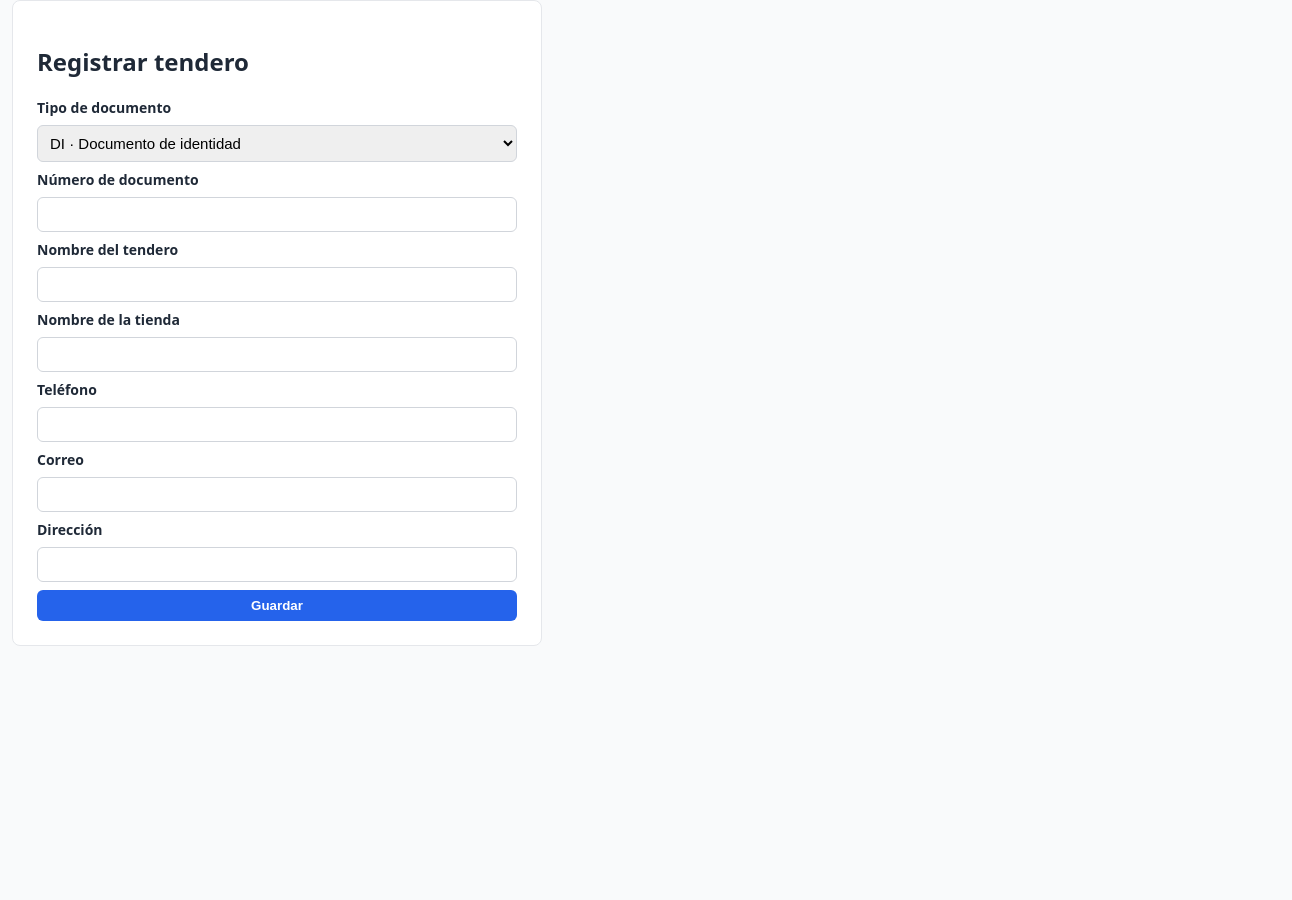
it: RegistrarTendero › al guardar con éxito vuelve a la lista con «Tendero registrado» y la recarga con el tendero nuevo (CA25)
In the field labelled "Número de documento": (277, 214) [37,197,517,232], type "999124011"
In the field labelled "Nombre del tendero": (277, 284) [37,267,517,302], type "Prueba Norte"
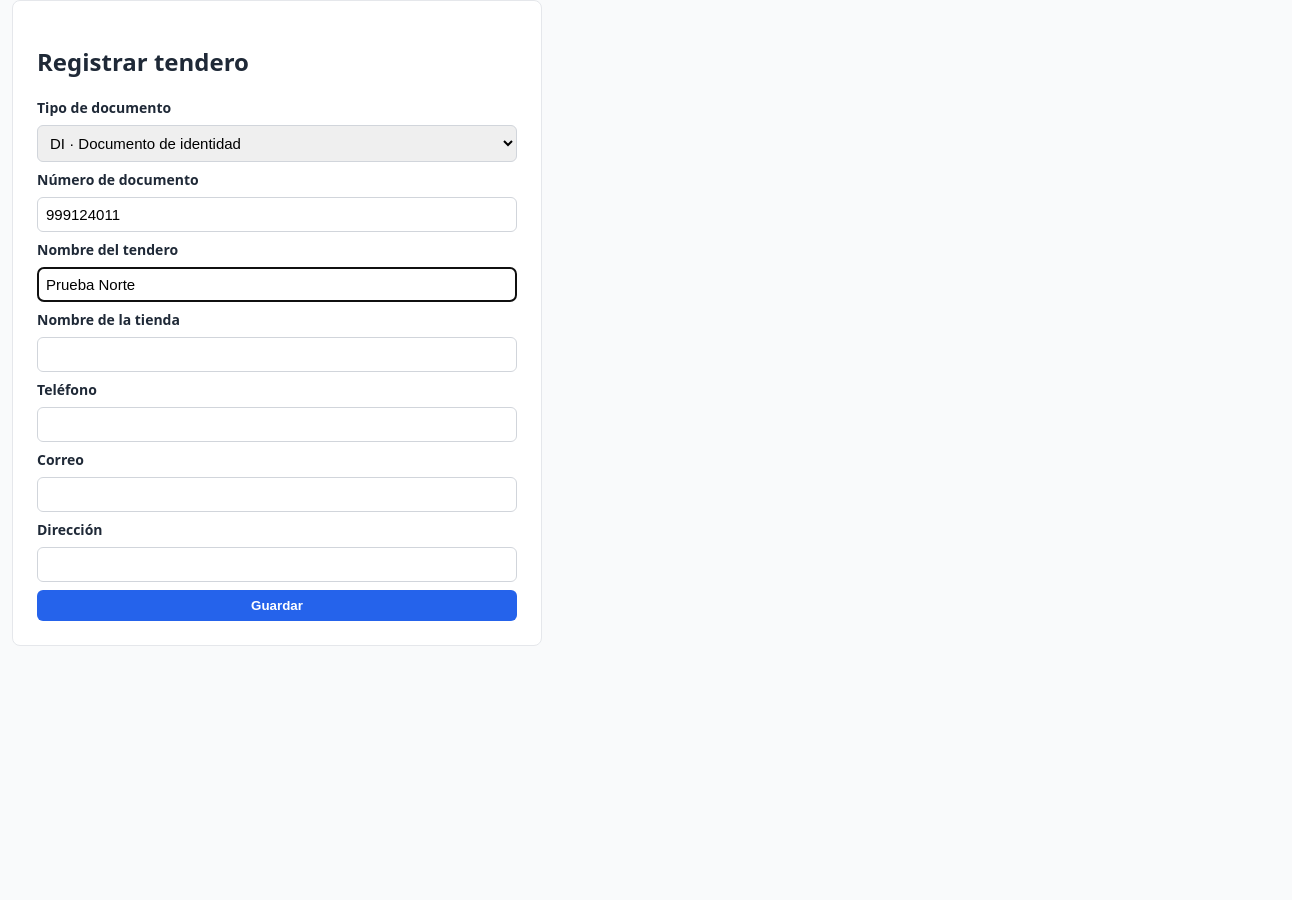
In the field labelled "Nombre de la tienda": (277, 354) [37,337,517,372], type "Tienda Prueba Norte"
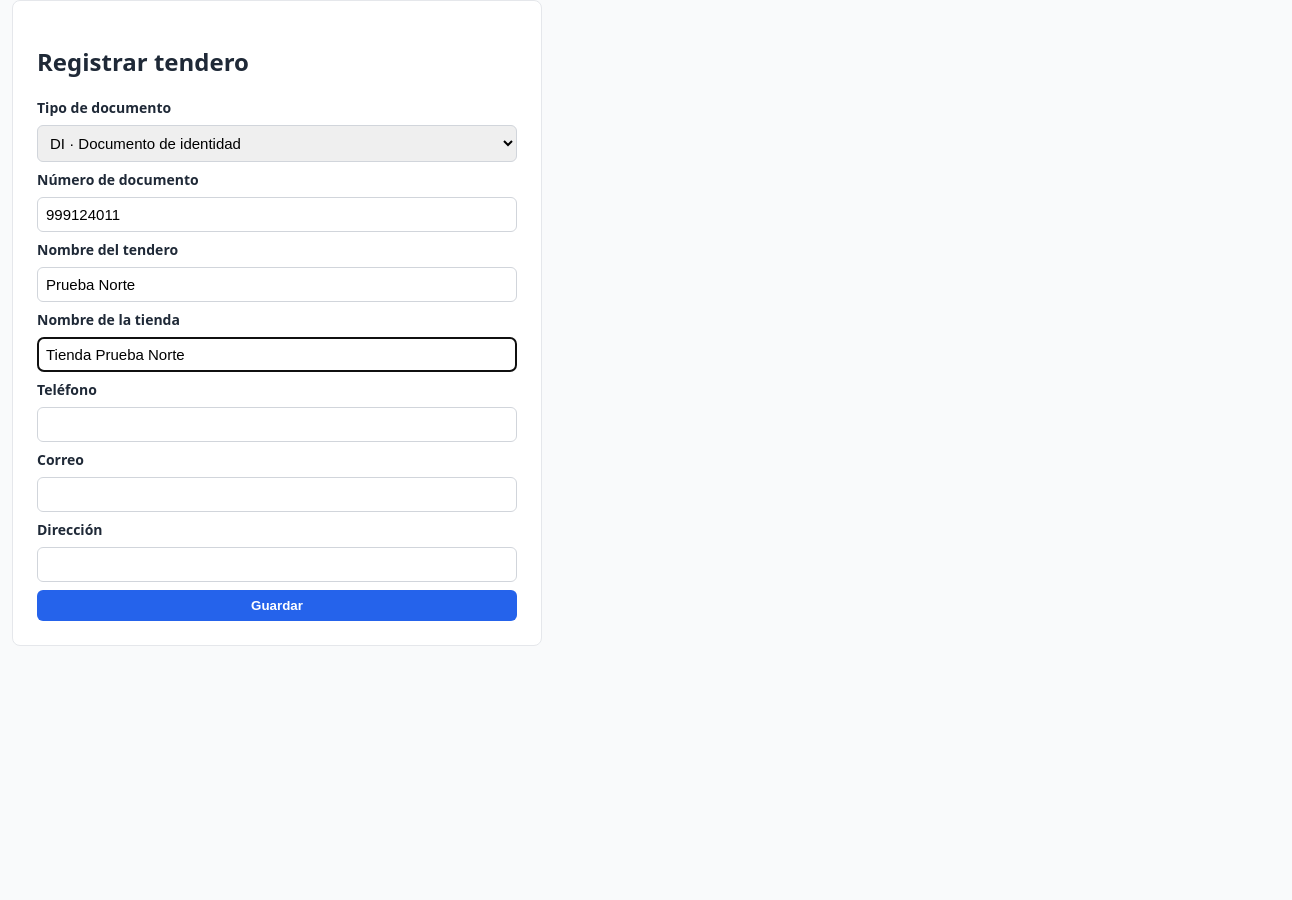
In the field labelled "Teléfono": (277, 424) [37,407,517,442], type "5550000001"
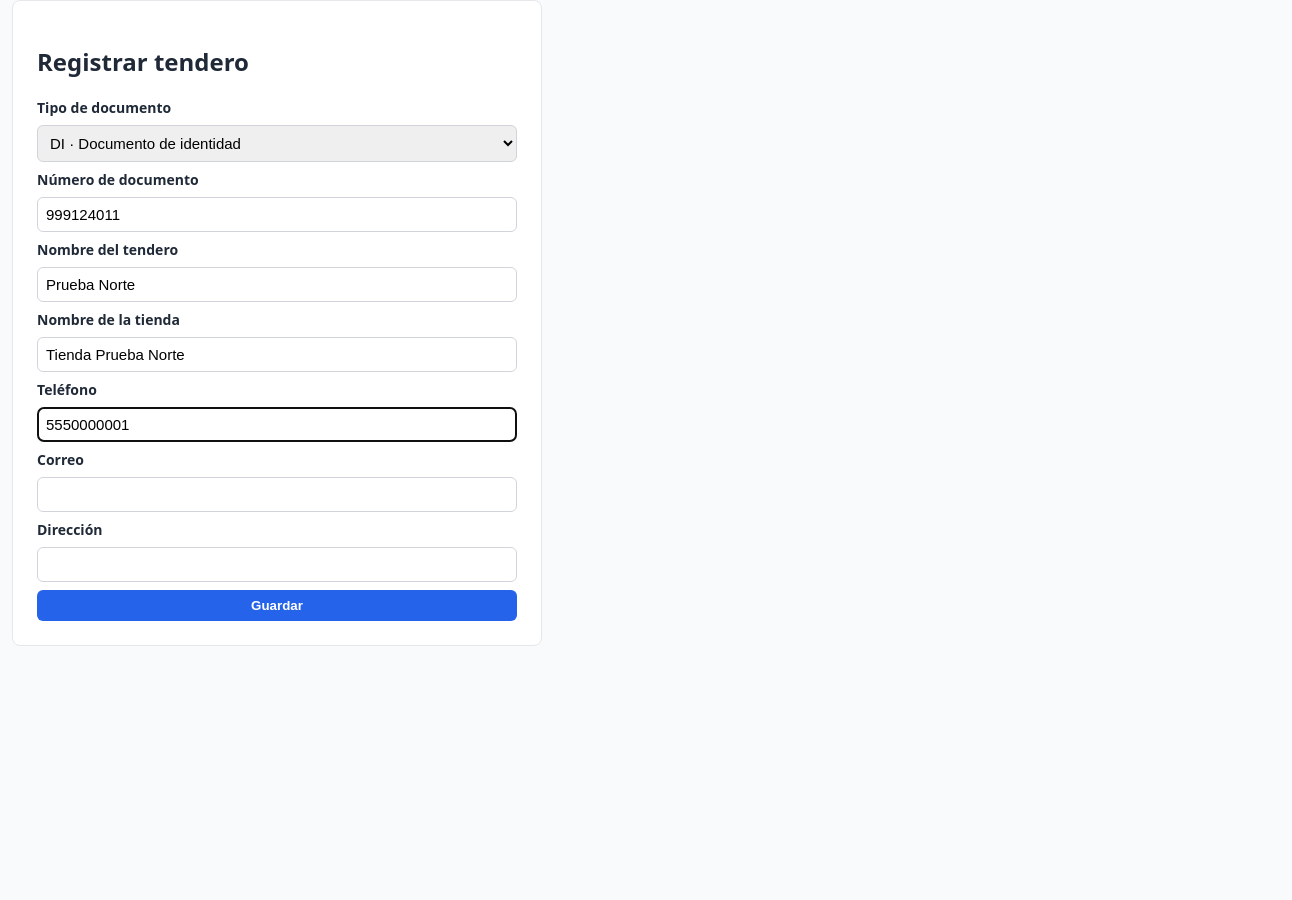
In the field labelled "Correo": (277, 494) [37,477,517,512], type "prueba@ejemplo.test"
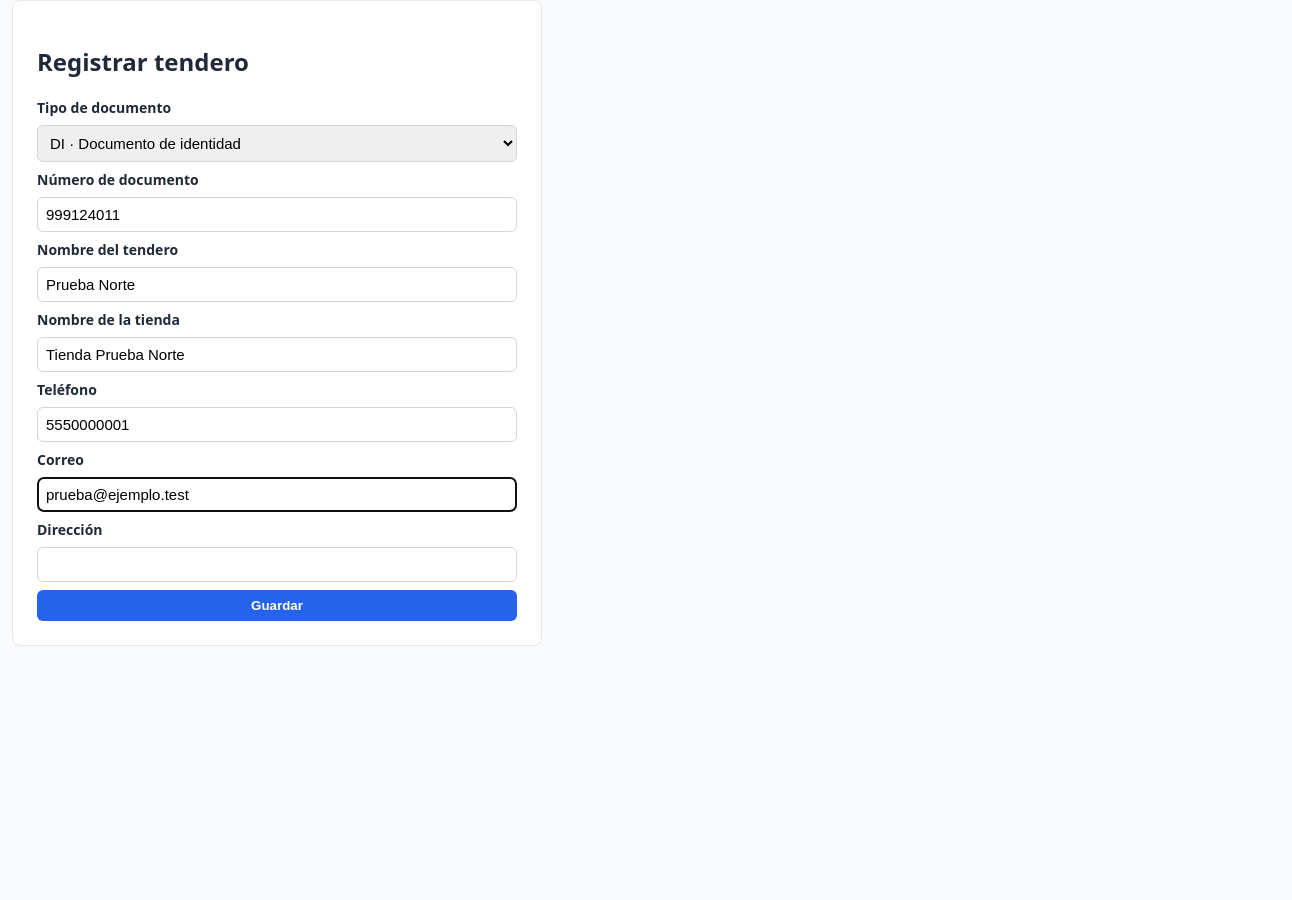
In the field labelled "Dirección": (277, 564) [37,547,517,582], type "Dirección de prueba 1"
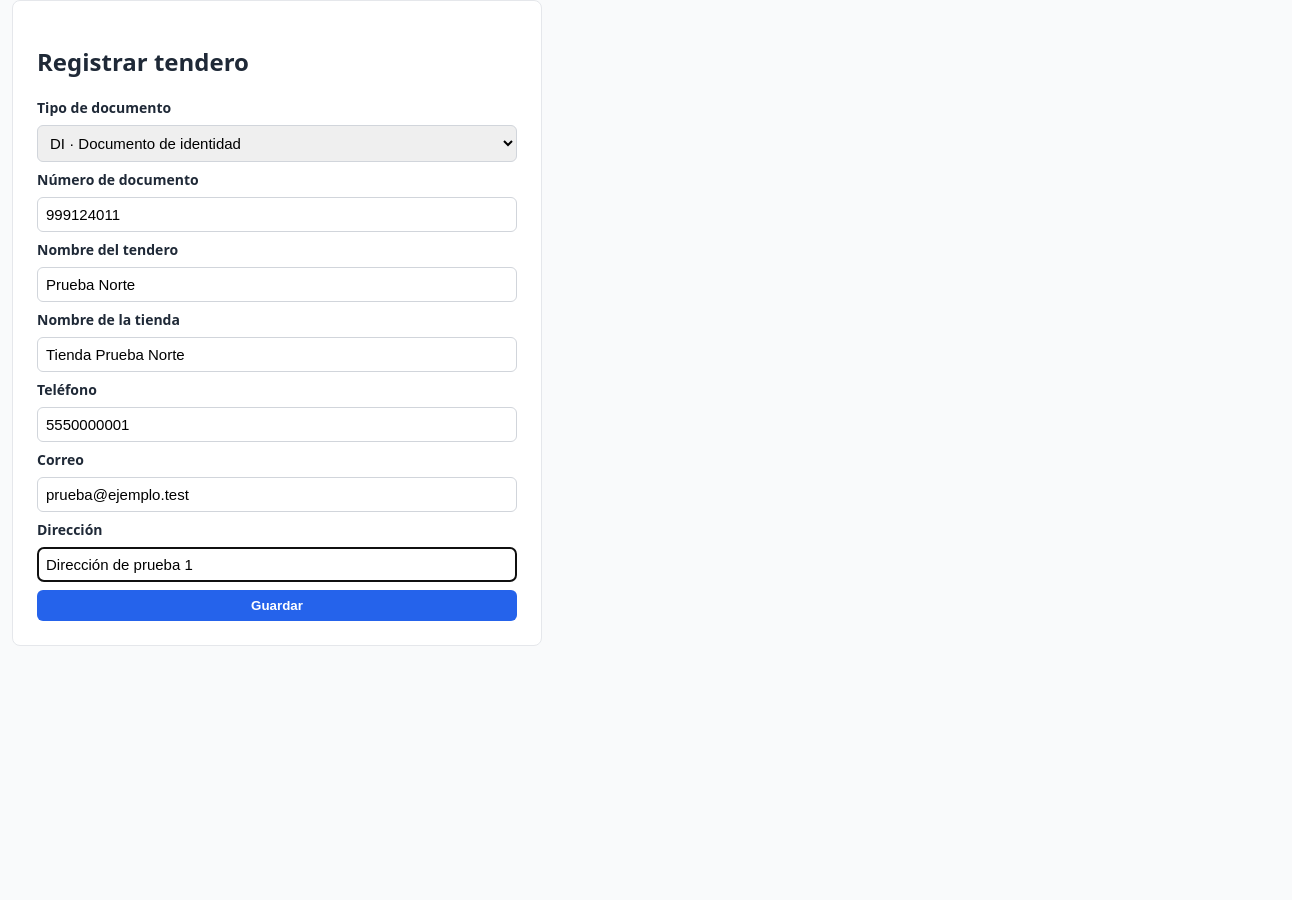
Click the button "Guardar": (277, 605) [37,590,517,621]
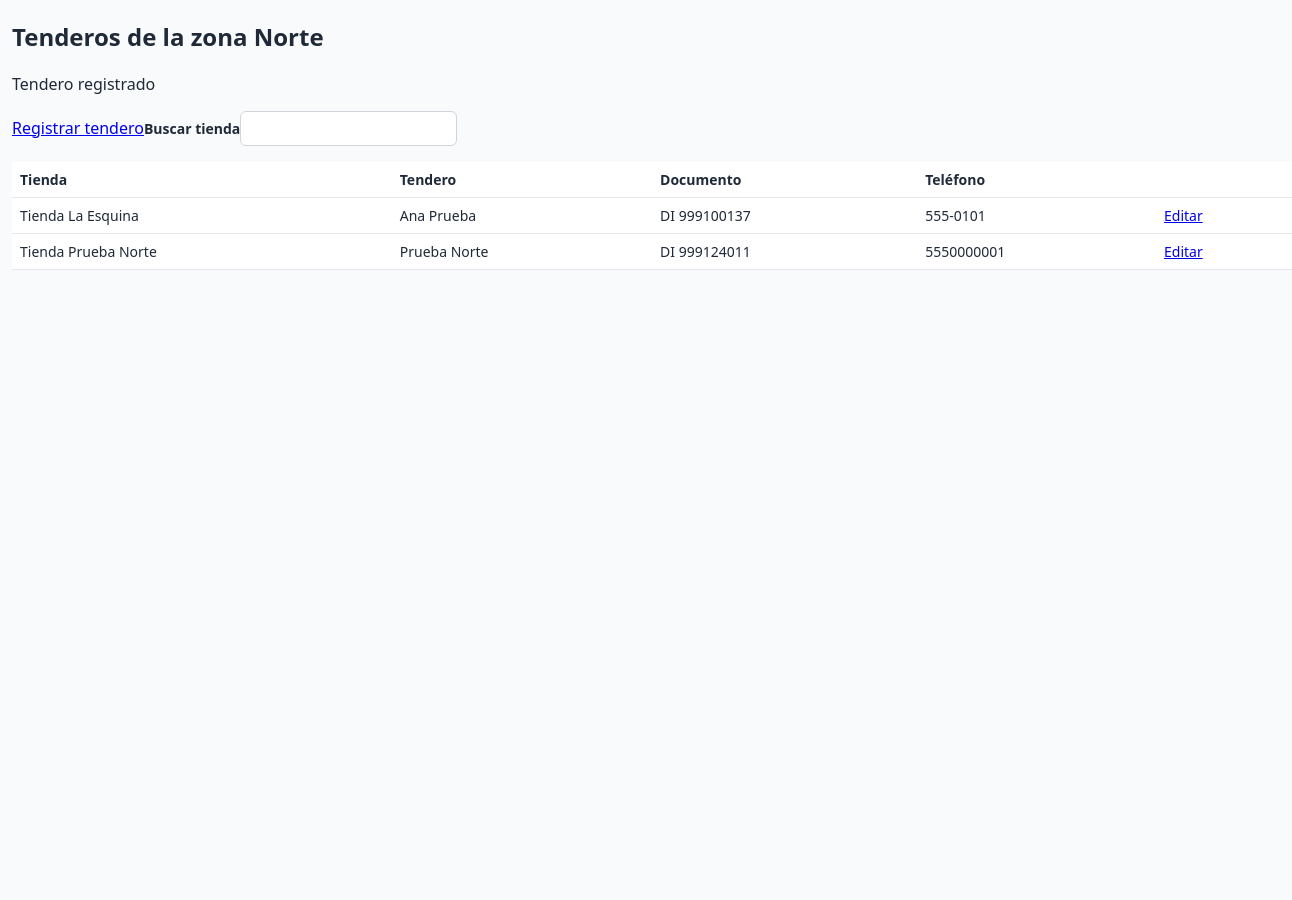
Check: the message reads "Tendero registrado", box [12,73,155,95]
Check: the heading "Tenderos de la zona Norte" is shown, box [12,20,324,53]
Check: the text "Tienda Prueba Norte" is shown, box [12,233,392,269]
